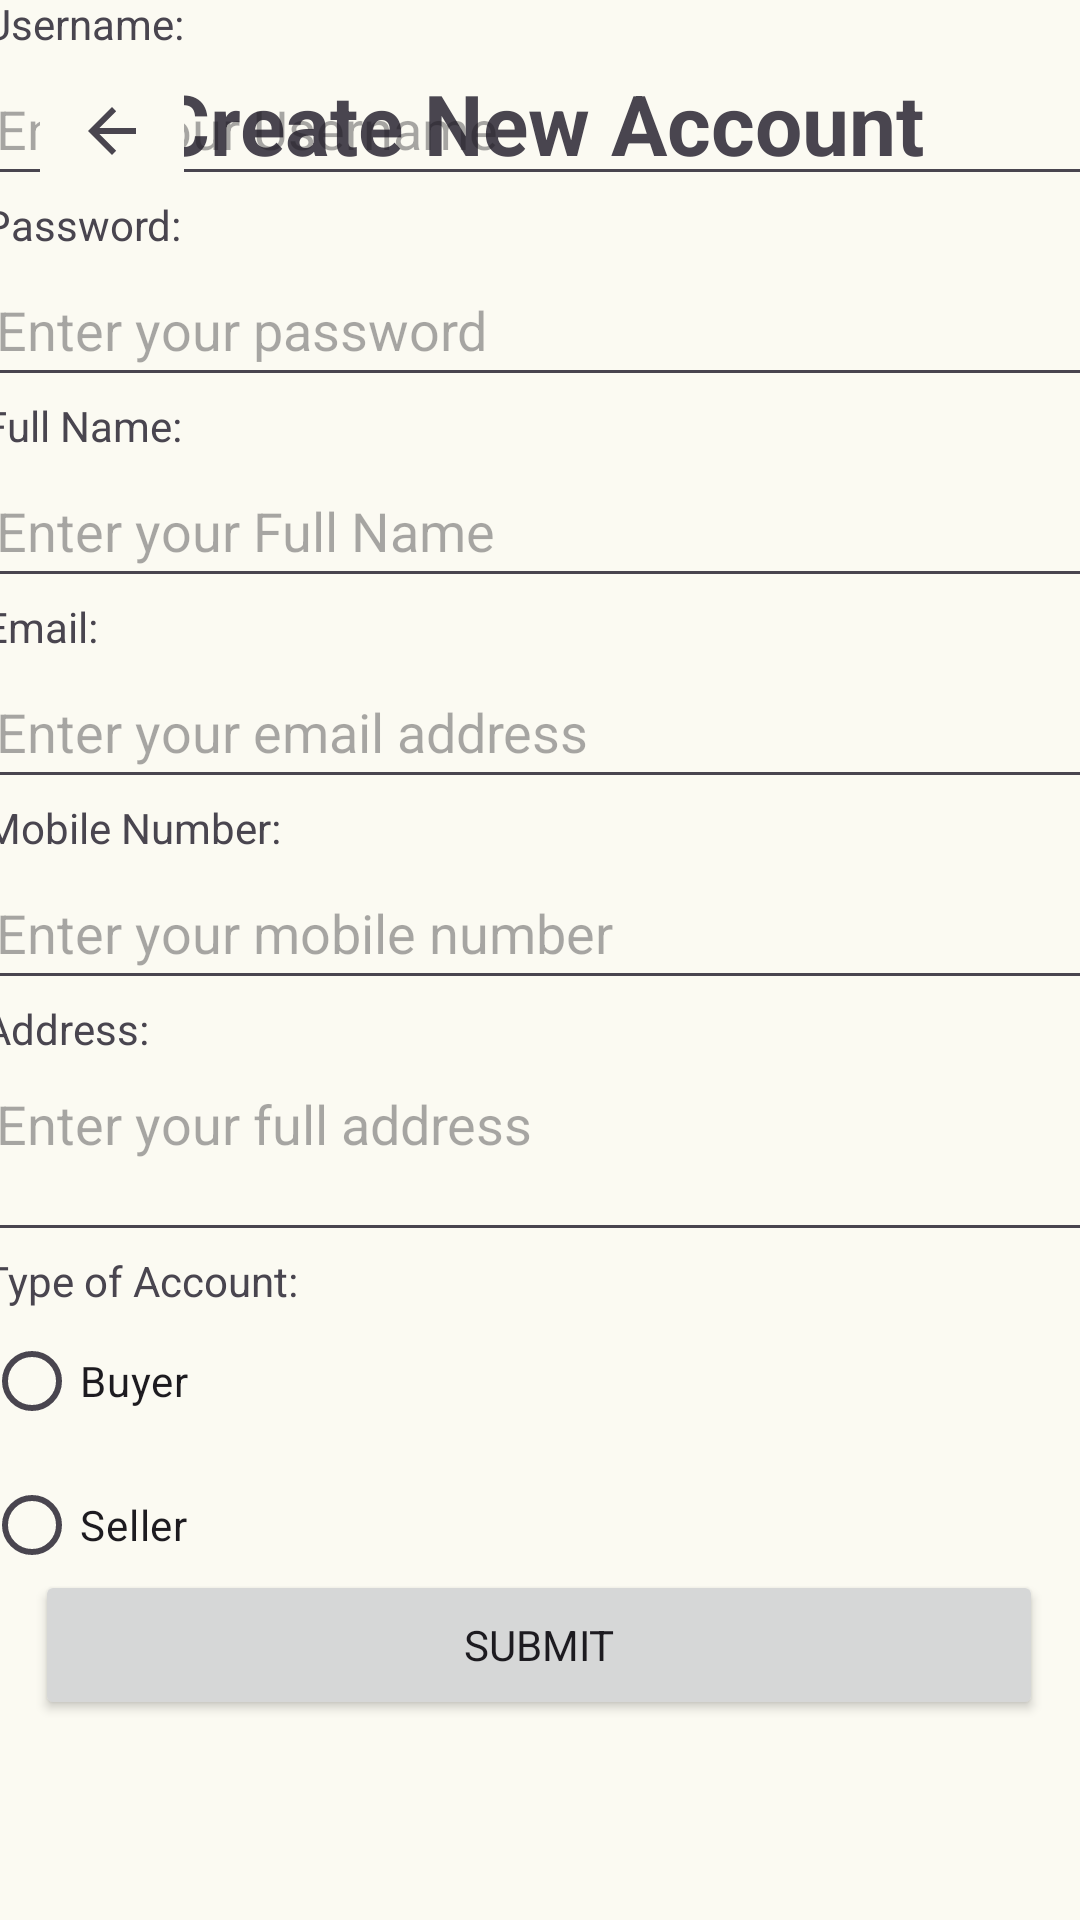

Icons on this 1080w x 1920h Android screen, each with the point to tap as point (x, y):
back: point (112, 131)
